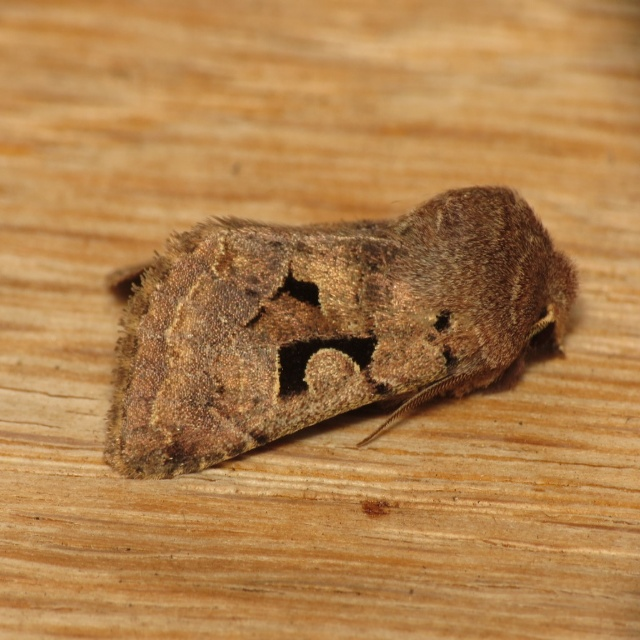Moths and butterflies: (106, 187, 581, 484)
